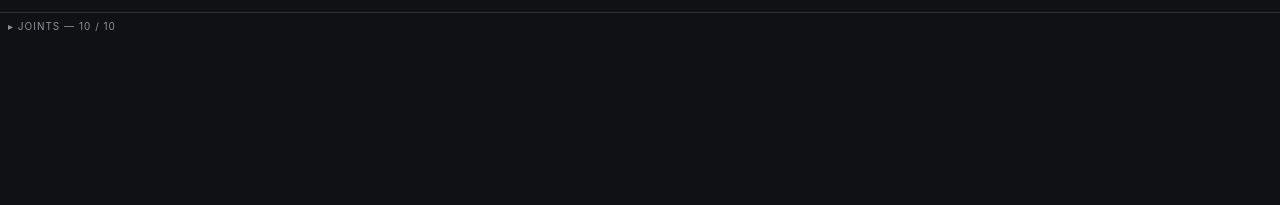
Test: contact pairs are listed as needing no joint, not as unavailable
Click the button "▸ Joints — 10 / 10" at coordinates (46, 26), box [8,13,1272,40]
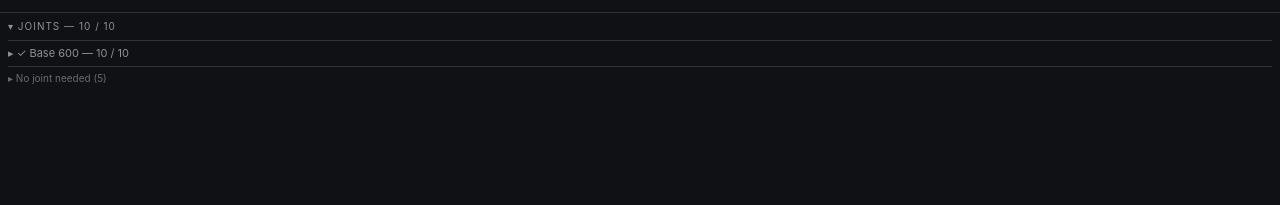
Now the button "▸ No joint needed (5)" is shown
Click the button "▸ No joint needed (5)" at coordinates (53, 78), box [8,66,1272,90]
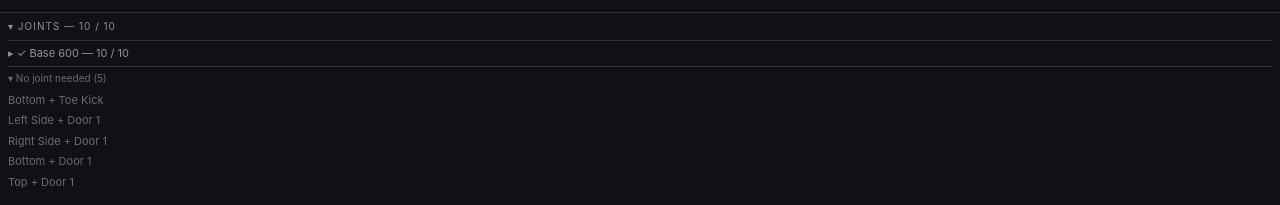
Now the text "Bottom + Toe Kick" is shown, box [8,92,104,106]
